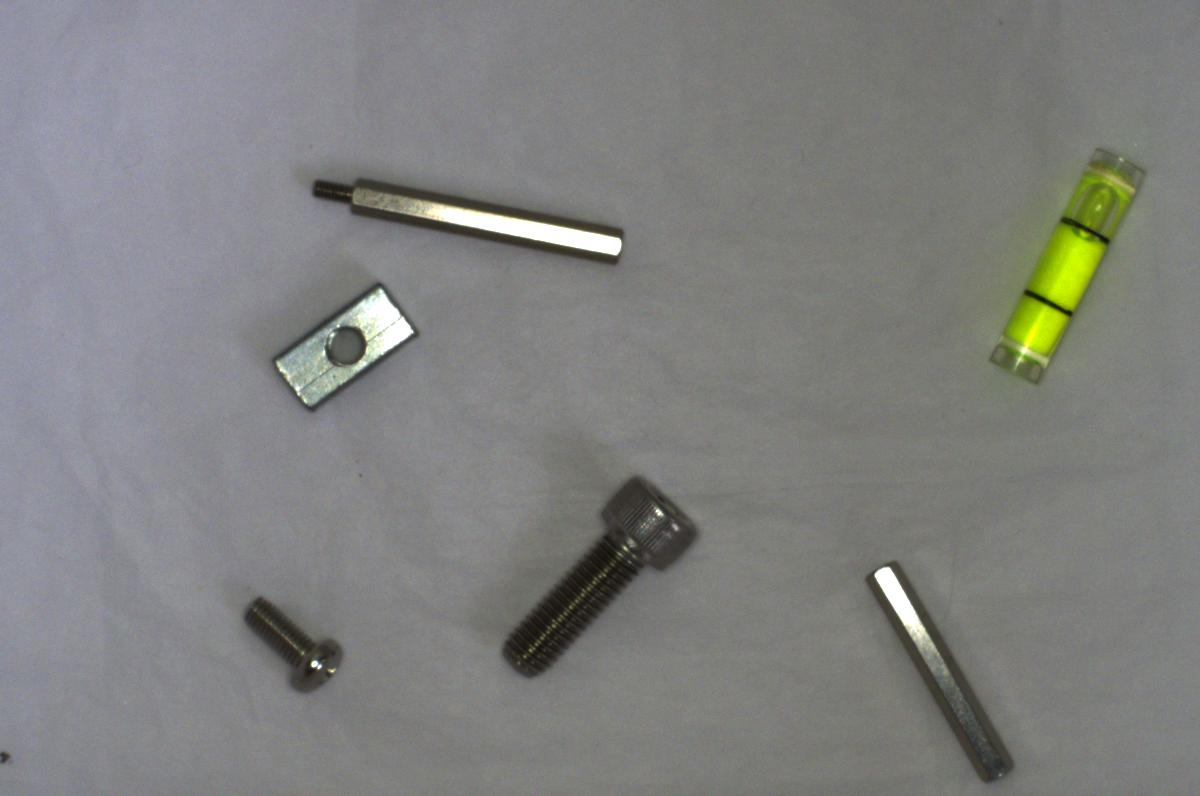Double hexagonal column: (862, 558, 1019, 788)
Hexagon screw: (491, 465, 700, 675)
Hexagonal steel column: (301, 167, 633, 266)
Horizontal bubble: (968, 133, 1150, 386)
Rectangular nut: (261, 269, 427, 408)
Round head screw: (234, 594, 342, 695)
